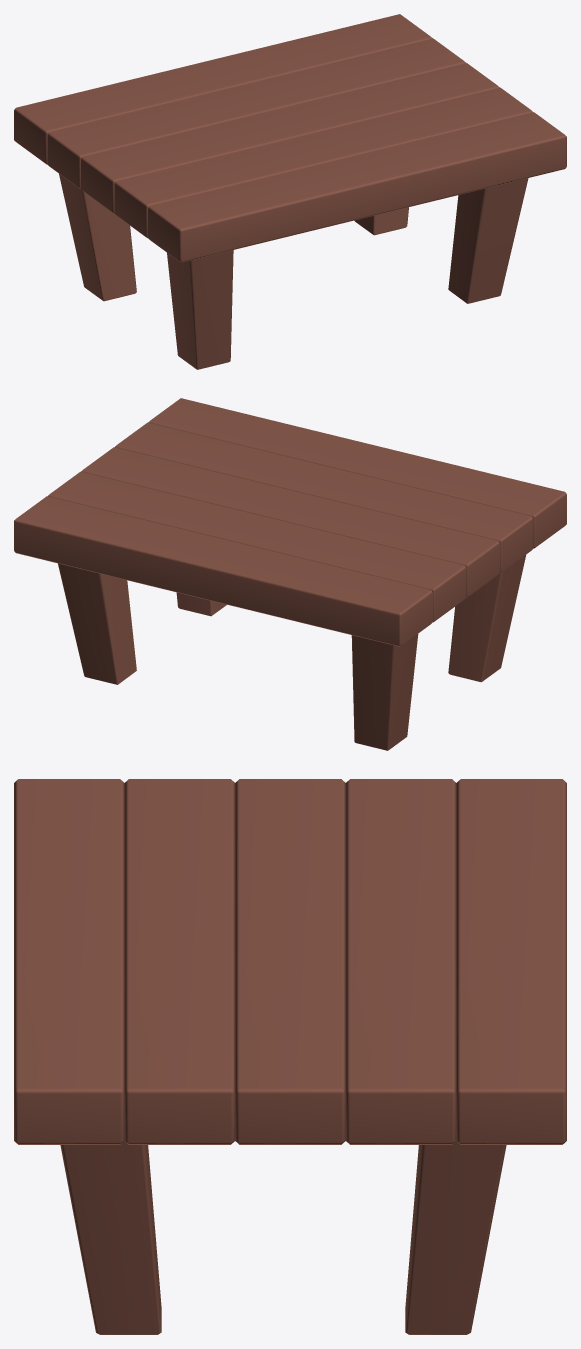
File: Farm_4_Stand_1.glb
3 renders of one model, top to bottom at view 1: azimuth 30°, elevation 25°; view 2: azimuth 150°, elevation 25°; view 3: azimuth 270°, elevation 25°, orthographic. The views are drawn at different scales.
Visible parts, largest first — view 1: Farm_4_Stand_1; view 2: Farm_4_Stand_1; view 3: Farm_4_Stand_1.
Part boxes in pixels (x1=…): Farm_4_Stand_1: x1=14, y1=14, x2=566, y2=369; Farm_4_Stand_1: x1=14, y1=398, x2=566, y2=750; Farm_4_Stand_1: x1=14, y1=779, x2=566, y2=1334.
Bounding box in the file's own units: 3.59 × 1.5 × 2.69.
Materials: 1 (1 with a texture image).
